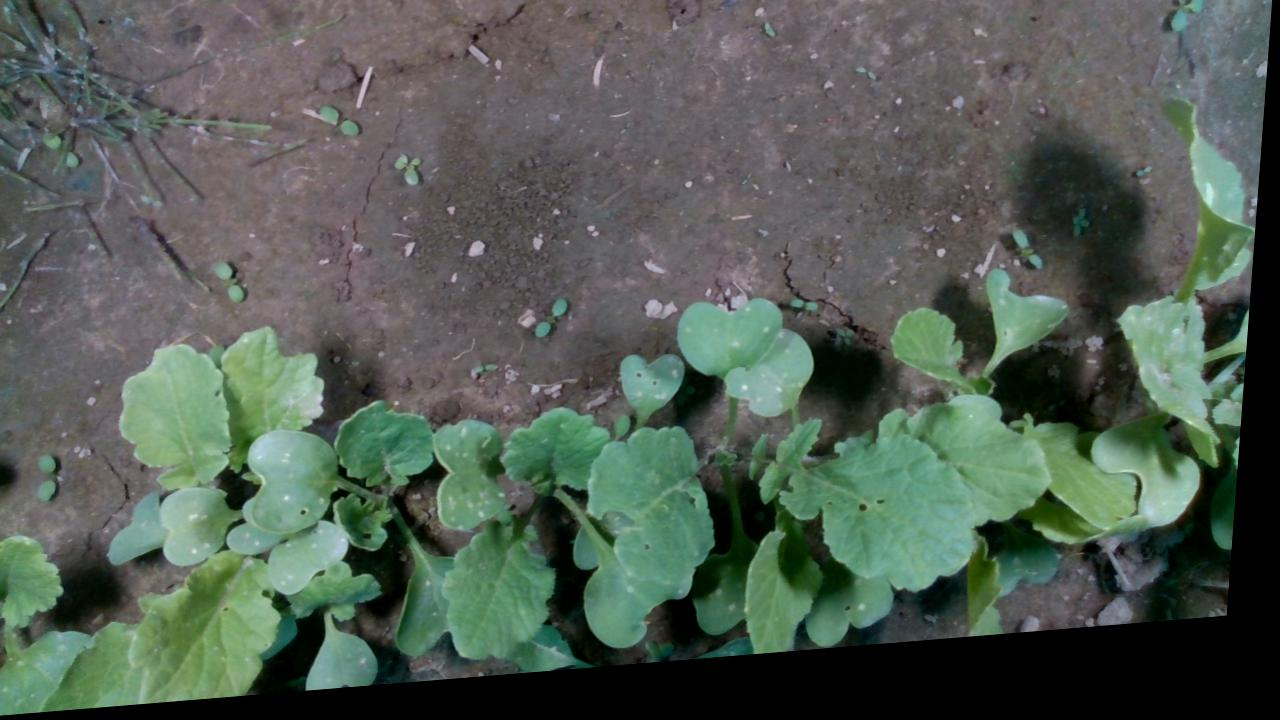weed: (1011, 244, 1050, 290), (317, 106, 362, 145), (213, 263, 251, 309), (1170, 11, 1207, 54), (539, 306, 573, 347), (40, 452, 65, 504), (392, 157, 425, 195), (1073, 224, 1097, 257), (1064, 0, 1097, 3)
